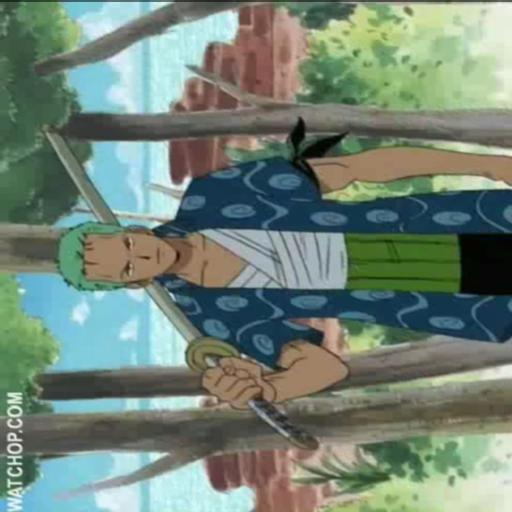Zoro: (51, 124, 512, 420)
